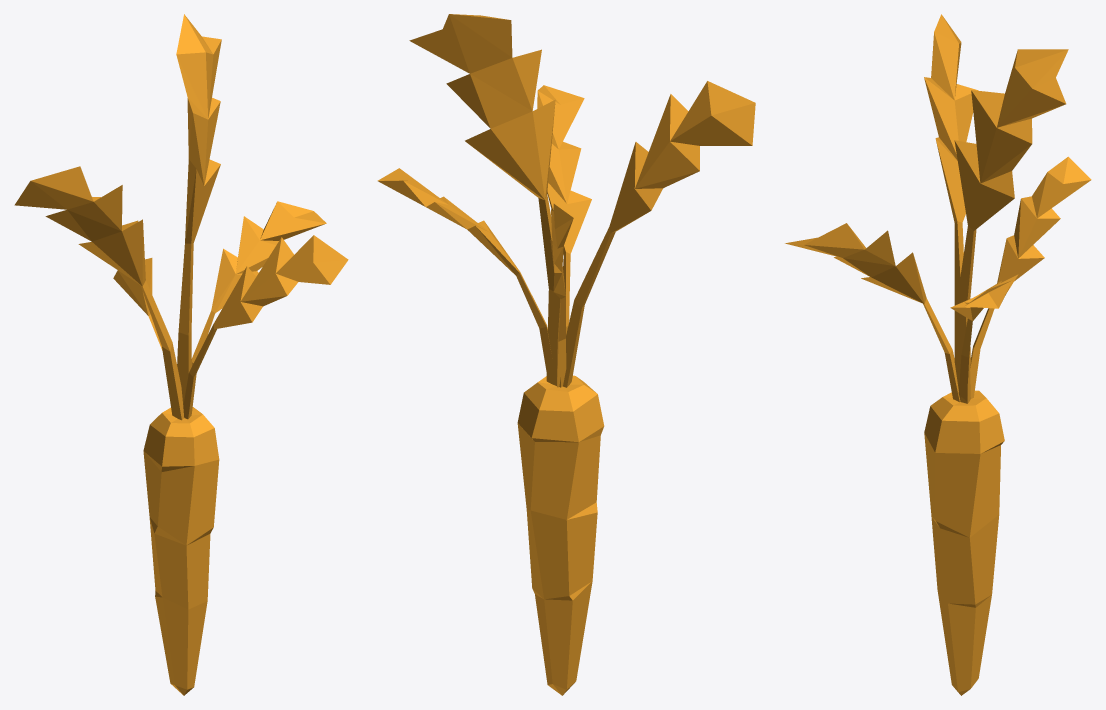
The model's file is SM_Carrot_Plant_Ripe_Root_A.fbx.
3 views of the same model, side by side, from view 1: azimuth 30°, elevation 25°; view 2: azimuth 150°, elevation 25°; view 3: azimuth 270°, elevation 25° (orthographic). The views are drawn at different scales.
Parts seen in each view (by area): view 1: carrot-plant-ripe-root-a; view 2: carrot-plant-ripe-root-a; view 3: carrot-plant-ripe-root-a.
Part boxes in pixels (x1,y1,x2,y2): carrot-plant-ripe-root-a: [14, 14, 348, 695]; carrot-plant-ripe-root-a: [377, 14, 755, 695]; carrot-plant-ripe-root-a: [785, 14, 1091, 695].
Size of the model in its own units: 0.4025 by 0.7673 by 0.3178.
